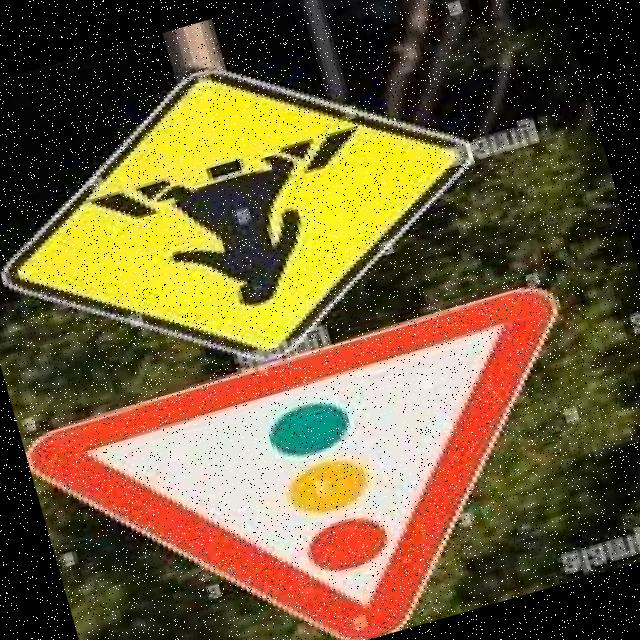light_traffic: (17, 269, 638, 640)
